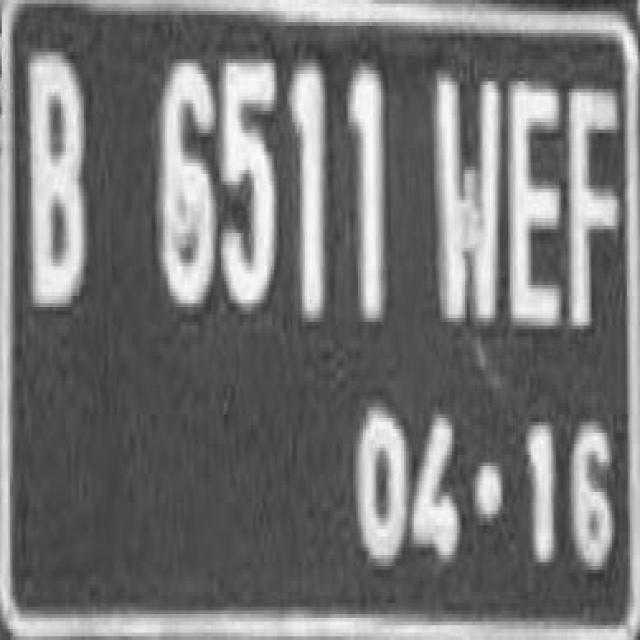1: (338, 53, 398, 334), (286, 50, 336, 331)
5: (218, 44, 284, 326)
6: (154, 48, 218, 322)
B: (22, 39, 92, 328)
E: (504, 66, 570, 344)
F: (566, 61, 622, 350)
W: (434, 59, 502, 333)
